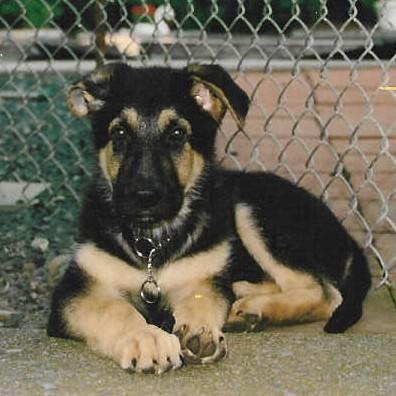German_shepherd: (44, 61, 374, 374)
